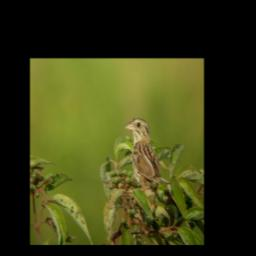Sparrow: (124, 115, 172, 212)
